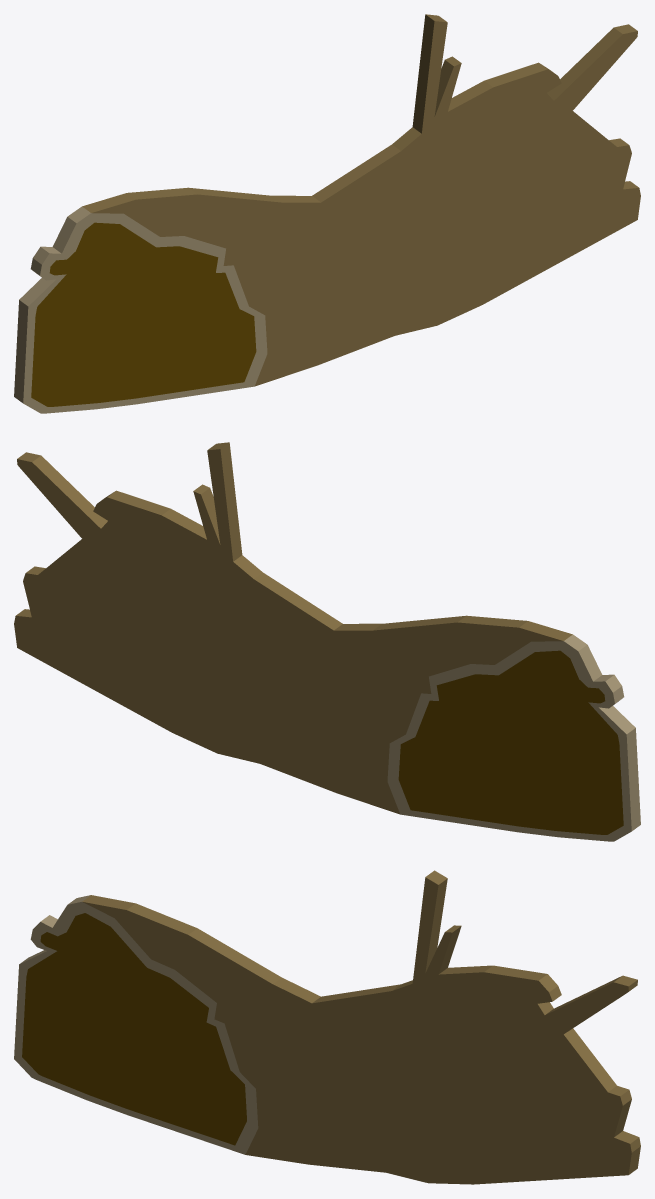
File: Wood_Log_4.fbx
The picture shows the model from 3 angles, top to bottom: view 1: azimuth 30°, elevation 25°; view 2: azimuth 150°, elevation 25°; view 3: azimuth 330°, elevation 25°; orthographic projection.
Visible parts, largest first — view 1: pPlane13; view 2: pPlane13; view 3: pPlane13.
Boxes of the visible parts, <box> form: pPlane13: <box>14,14,640,413</box>; pPlane13: <box>14,442,640,841</box>; pPlane13: <box>14,870,640,1184</box>.
Bounding box in the file's own units: 5.18 × 2.58 × 0.1336.
